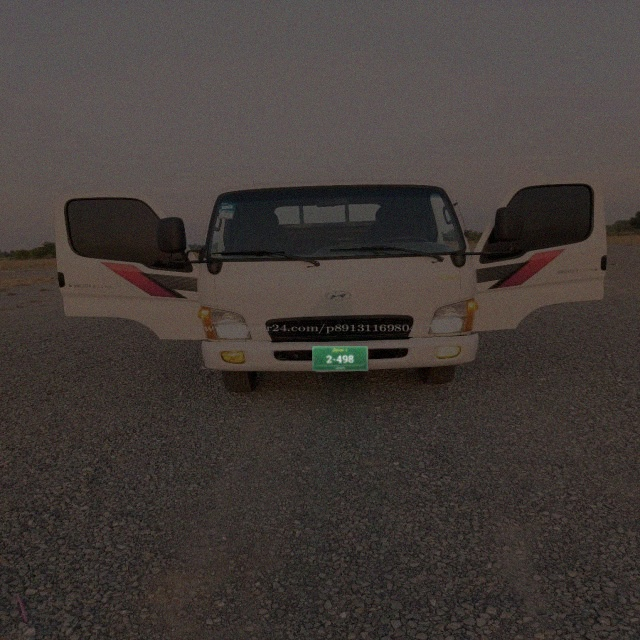Plate Number: (313, 346, 368, 372)
